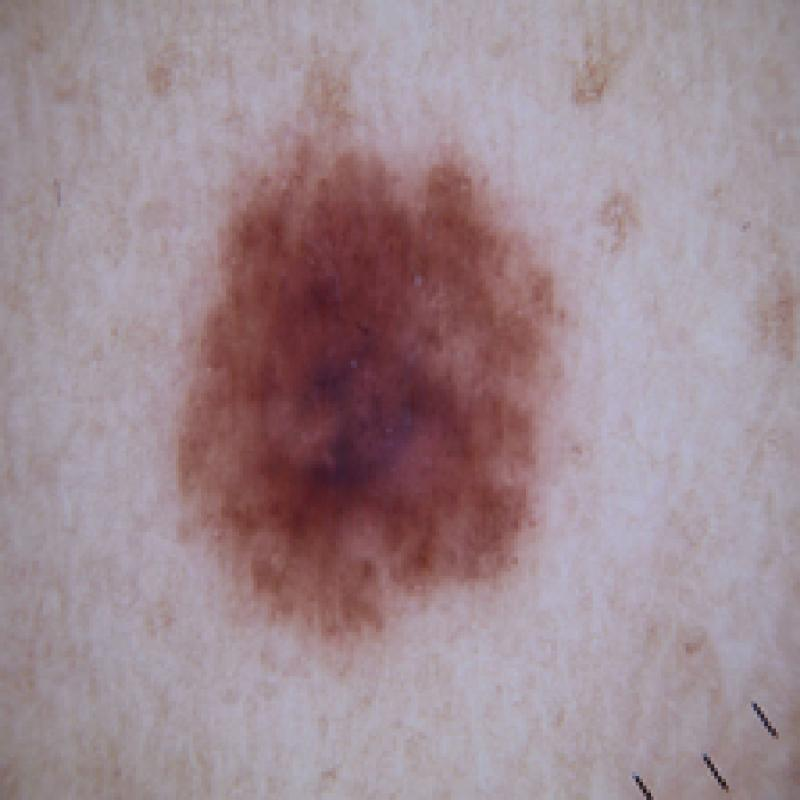benign: (172, 72, 590, 661), (699, 617, 699, 617)
